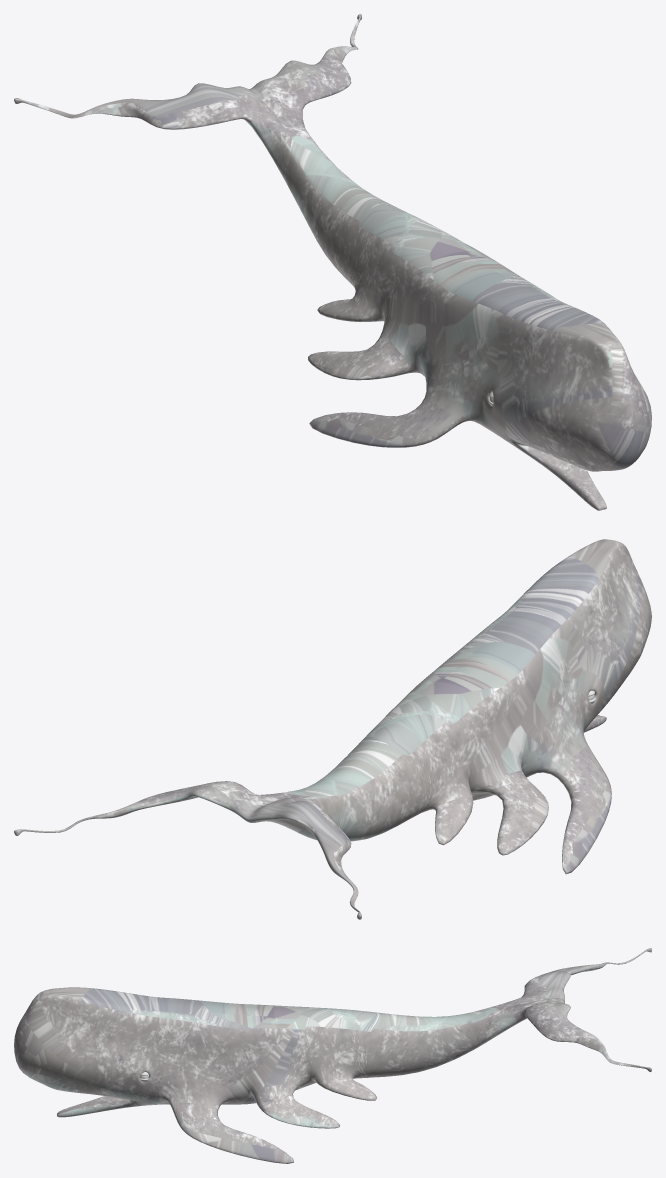
The model's file is BO_Whale_ani.fbx.
3 views of the same model, one above another, from view 1: azimuth 30°, elevation 25°; view 2: azimuth 150°, elevation 25°; view 3: azimuth 270°, elevation 25° (orthographic). The views are drawn at different scales.
Visible parts, largest first — view 1: Cube.022; view 2: Cube.022; view 3: Cube.022.
Boxes of the visible parts, box(x1,y1,x2,y2) form: Cube.022: box(14, 14, 651, 510); Cube.022: box(14, 539, 651, 919); Cube.022: box(14, 948, 651, 1163).
Bounding box in the file's own units: 416 × 207 × 923.
